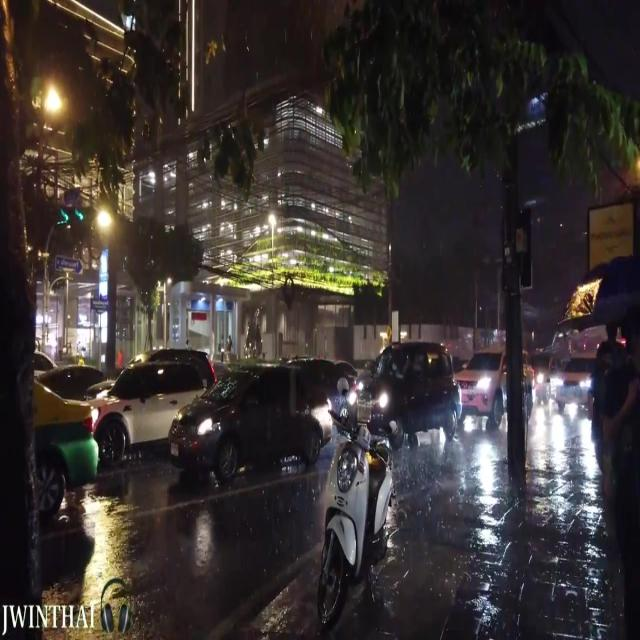Car: (169, 364, 319, 487), (374, 342, 457, 444)
